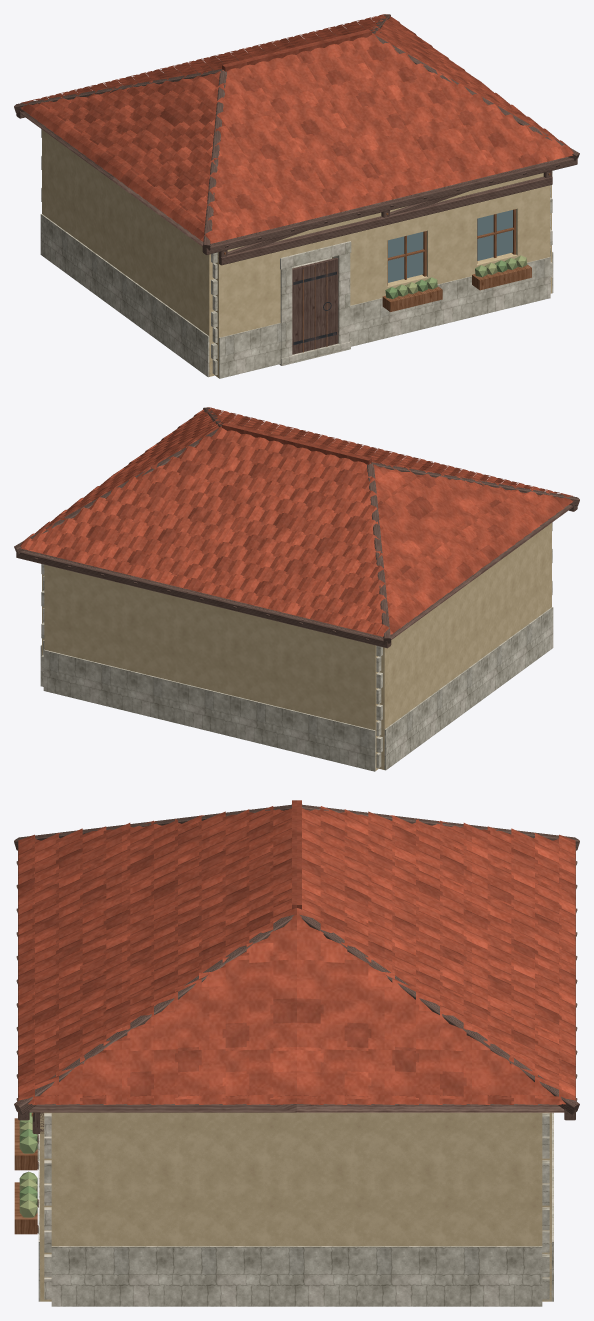
The model's file is B13_vivienda.glb.
The picture shows the model from 3 angles, top to bottom: view 1: azimuth 30°, elevation 25°; view 2: azimuth 150°, elevation 25°; view 3: azimuth 270°, elevation 25°; orthographic projection. The views are drawn at different scales.
Visible parts, largest first — view 1: AUR034_B13_clay_tiles, AUR034_B13_lower_masonry, AUR034_B13_projecting_stone_plinth, AUR034_B13_entry_leaf0, AUR034_B13_fascia-1, AUR034_B13_sill, AUR034_B13_roof_sheathing, AUR034_B13_window1_glazing, AUR034_B13_window0_glazing, AUR034_B13_entry_pier1, AUR034_B13_ridge, AUR034_B13_entry_pier-1 (+8 smaller); view 2: AUR034_B13_clay_tiles, AUR034_B13_lower_masonry, AUR034_B13_projecting_stone_plinth, AUR034_B13_fascia1, AUR034_B13_roof_sheathing, AUR034_B13_ridge, AUR034_B13_hip_rafter_-11, AUR034_B13_dressed_corner_stones, AUR034_B13_hip_rafter_-1-1, AUR034_B13_hip_rafter_11; view 3: AUR034_B13_clay_tiles, AUR034_B13_lower_masonry, AUR034_B13_projecting_stone_plinth, AUR034_B13_roof_sheathing, AUR034_B13_dressed_corner_stones, AUR034_B13_hip_rafter_1-1, AUR034_B13_hip_rafter_11, AUR034_B13_ridge, AUR034_B13_hip_rafter_-1-1, AUR034_B13_hip_rafter_-11, AUR034_B13_flower_box1, AUR034_B13_flower_box0.
Boxes of the visible parts, left/top/right/bottom form: AUR034_B13_clay_tiles: left=20, top=14, right=573, bottom=243; AUR034_B13_lower_masonry: left=42, top=129, right=551, bottom=377; AUR034_B13_projecting_stone_plinth: left=40, top=214, right=553, bottom=378; AUR034_B13_entry_leaf0: left=292, top=257, right=338, bottom=354; AUR034_B13_fascia-1: left=202, top=157, right=577, bottom=254; AUR034_B13_sill: left=219, top=176, right=552, bottom=265; AUR034_B13_roof_sheathing: left=21, top=26, right=462, bottom=246; AUR034_B13_window1_glazing: left=477, top=210, right=512, bottom=260; AUR034_B13_window0_glazing: left=388, top=232, right=423, bottom=282; AUR034_B13_entry_pier1: left=333, top=253, right=350, bottom=344; AUR034_B13_ridge: left=222, top=29, right=371, bottom=71; AUR034_B13_entry_pier-1: left=280, top=267, right=292, bottom=358; AUR034_B13_clay_tiles: left=20, top=407, right=573, bottom=636; AUR034_B13_lower_masonry: left=42, top=422, right=551, bottom=770; AUR034_B13_projecting_stone_plinth: left=40, top=607, right=553, bottom=771; AUR034_B13_fascia1: left=16, top=550, right=391, bottom=648; AUR034_B13_roof_sheathing: left=25, top=441, right=573, bottom=639; AUR034_B13_ridge: left=222, top=422, right=371, bottom=464; AUR034_B13_hip_rafter_-11: left=367, top=463, right=390, bottom=643; AUR034_B13_dressed_corner_stones: left=41, top=522, right=552, bottom=768; AUR034_B13_hip_rafter_-1-1: left=371, top=462, right=579, bottom=506; AUR034_B13_hip_rafter_11: left=14, top=428, right=218, bottom=554; AUR034_B13_clay_tiles: left=18, top=806, right=575, bottom=1104; AUR034_B13_lower_masonry: left=40, top=1112, right=551, bottom=1301; AUR034_B13_projecting_stone_plinth: left=38, top=1112, right=553, bottom=1306; AUR034_B13_roof_sheathing: left=29, top=1104, right=564, bottom=1112; AUR034_B13_dressed_corner_stones: left=44, top=1113, right=549, bottom=1299; AUR034_B13_hip_rafter_1-1: left=14, top=914, right=294, bottom=1114; AUR034_B13_hip_rafter_11: left=299, top=914, right=579, bottom=1114; AUR034_B13_ridge: left=292, top=800, right=301, bottom=909; AUR034_B13_hip_rafter_-1-1: left=14, top=804, right=291, bottom=850; AUR034_B13_hip_rafter_-11: left=302, top=804, right=579, bottom=850; AUR034_B13_flower_box1: left=14, top=1182, right=37, bottom=1234; AUR034_B13_flower_box0: left=14, top=1118, right=37, bottom=1170.
Bounding box in the file's own units: 9.11 × 5.25 × 8.08.
12 materials, 8 textured.
